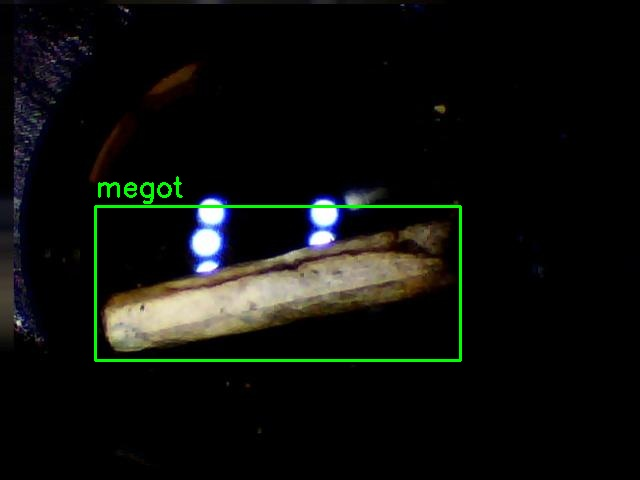megot: (95, 206, 460, 360)
